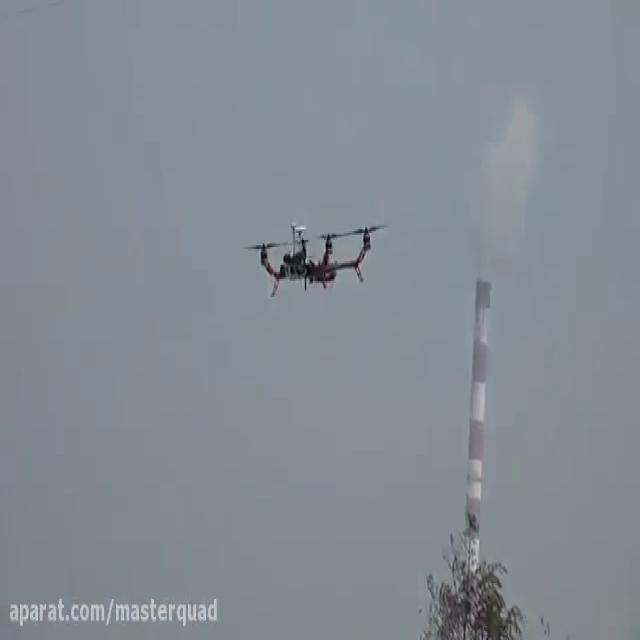drone: (235, 208, 388, 298)
